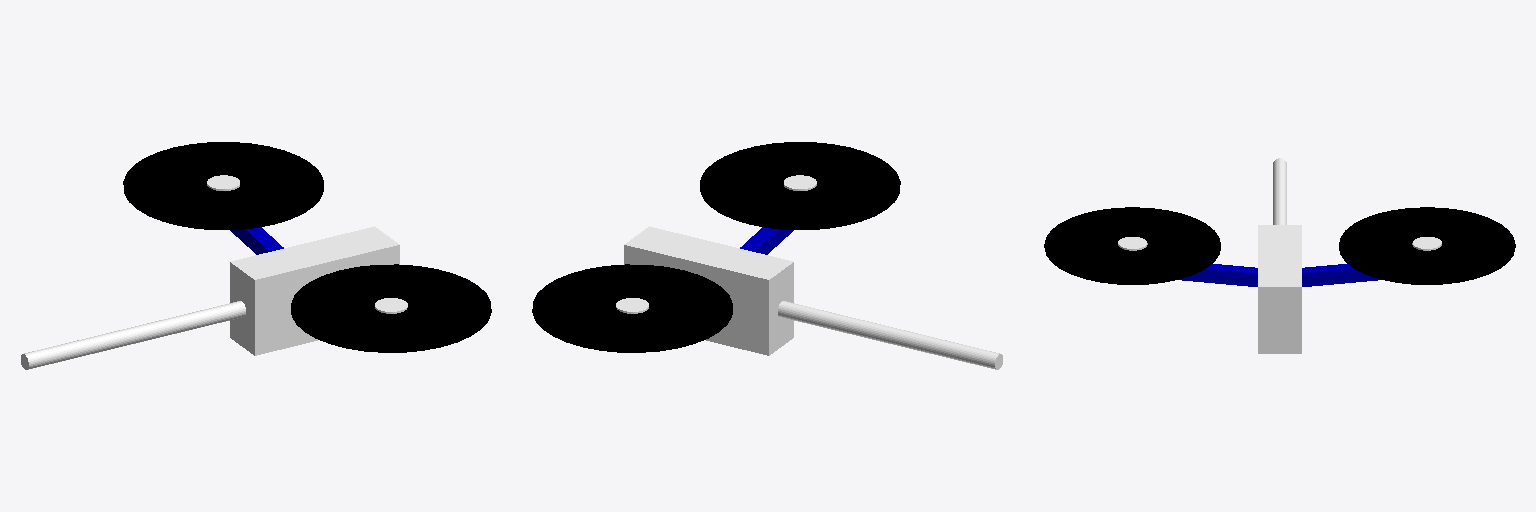
The robot description file, URDF, robot "bicopter":
<?xml version="1.0" ?>
<!-- =================================================================================== -->
<!-- |    This document was autogenerated by xacro from bicopter.xacro                 | -->
<!-- |    EDITING THIS FILE BY HAND IS NOT RECOMMENDED                                 | -->
<!-- =================================================================================== -->
<robot name="bicopter" xmlns:xacro="http://wiki.ros.org/xacro">
  <!-- END - Include -->
  <material name="blue">
    <color rgba="0 0 0.8 1"/>
  </material>
  <material name="white">
    <color rgba="1 1 1 1"/>
  </material>
  <material name="props">
    <color rgba="0 0 0 0.5"/>
  </material>
  <link name="base_link">
    <inertial>
      <mass value="0.5"/>
      <origin rpy="0 0 0" xyz="0 0 0.05"/>
      <inertia ixx="0.3" ixy="0" ixz="0" iyy="0.3" iyz="0" izz="0.3"/>
    </inertial>
    <collision>
      <origin rpy="0 0 0" xyz="0 0 0.05"/>
      <geometry>
        <box size="0.2 0.06 0.10"/>
      </geometry>
    </collision>
    <visual>
      <origin rpy="0 0 0" xyz="0 0 0.05"/>
      <geometry>
        <box size="0.2 0.06 0.10"/>
      </geometry>
      <material name="white"/>
    </visual>
  </link>
  <link name="tail">
    <inertial>
      <mass value="0.02085"/>
      <origin rpy="0 1.5708 0" xyz="0 0 0.0"/>
      <inertia ixx="1e-05" ixy="0" ixz="0" iyy="1e-05" iyz="0" izz="1e-05"/>
    </inertial>
    <collision>
      <origin rpy="0 1.5708 0" xyz="0 0 0.0"/>
      <geometry>
        <cylinder length="0.3" radius="0.01"/>
      </geometry>
    </collision>
    <visual>
      <origin rpy="0 1.5708 0" xyz="0 0 0.0"/>
      <geometry>
        <cylinder length="0.3" radius="0.01"/>
      </geometry>
      <material name="white"/>
    </visual>
  </link>
  <link name="prop_right">
    <inertial>
      <mass value="0.01"/>
      <origin rpy="0 0 0" xyz="0 0 0.0"/>
      <inertia ixx="1e-05" ixy="0" ixz="0" iyy="1e-05" iyz="0" izz="1e-05"/>
    </inertial>
    <collision>
      <origin rpy="0 0 0" xyz="0 0 0.0"/>
      <geometry>
        <cylinder length="0.005" radius="0.12"/>
      </geometry>
    </collision>
    <visual>
      <origin rpy="0 0 0" xyz="0 0 0.0"/>
      <geometry>
        <cylinder length="0.005" radius="0.12"/>
      </geometry>
      <material name="props"/>
    </visual>
  </link>
  <link name="prop_left">
    <inertial>
      <mass value="0.01"/>
      <origin rpy="0 0 0" xyz="0 0 0.0"/>
      <inertia ixx="1e-05" ixy="0" ixz="0" iyy="1e-05" iyz="0" izz="1e-05"/>
    </inertial>
    <collision>
      <origin rpy="0 0 0" xyz="0 0 0.0"/>
      <geometry>
        <cylinder length="0.005" radius="0.12"/>
      </geometry>
    </collision>
    <visual>
      <origin rpy="0 0 0" xyz="0 0 0.0"/>
      <geometry>
        <cylinder length="0.005" radius="0.12"/>
      </geometry>
      <material name="props"/>
    </visual>
  </link>
  <link name="arm_left">
    <inertial>
      <mass value="0.05"/>
      <origin rpy="0 -0.1 -1.5707" xyz="-0.010 -0.1 0.02"/>
      <inertia ixx="1e-05" ixy="0" ixz="0" iyy="1e-05" iyz="0" izz="1e-05"/>
    </inertial>
    <collision>
      <origin rpy="0 -0.1 -1.5707" xyz="-0.010 -0.1 0.02"/>
      <geometry>
        <box size="0.2 0.02 0.02"/>
      </geometry>
    </collision>
    <visual>
      <origin rpy="0 -0.1 -1.5707" xyz="-0.010 -0.1 0.02"/>
      <geometry>
        <box size="0.2 0.02 0.02"/>
      </geometry>
      <material name="blue"/>
    </visual>
  </link>
  <link name="arm_right">
    <inertial>
      <mass value="0.05"/>
      <origin rpy="0 -0.1 1.5707" xyz="-0.010 0.1 0.02"/>
      <inertia ixx="1e-05" ixy="0" ixz="0" iyy="1e-05" iyz="0" izz="1e-05"/>
    </inertial>
    <collision>
      <origin rpy="0 -0.1 1.5707" xyz="-0.010 0.1 0.02"/>
      <geometry>
        <box size="0.2 0.02 0.02"/>
      </geometry>
    </collision>
    <visual>
      <origin rpy="0 -0.1 1.5707" xyz="-0.010 0.1 0.02"/>
      <geometry>
        <box size="0.2 0.02 0.02"/>
      </geometry>
      <material name="blue"/>
    </visual>
  </link>
  <link name="motor_right">
    <inertial>
      <mass value="0.035"/>
      <origin rpy="0 0 0" xyz="0 0 0.0"/>
      <inertia ixx="1e-05" ixy="0" ixz="0" iyy="1e-05" iyz="0" izz="1e-05"/>
    </inertial>
    <collision>
      <origin rpy="0 0 0" xyz="0 0 0.0"/>
      <geometry>
        <cylinder length="0.05" radius="0.02"/>
      </geometry>
    </collision>
    <visual>
      <origin rpy="0 0 0" xyz="0 0 0.0"/>
      <geometry>
        <cylinder length="0.05" radius="0.02"/>
      </geometry>
      <material name="white"/>
    </visual>
  </link>
  <link name="motor_left">
    <inertial>
      <mass value="0.035"/>
      <origin rpy="0 0 0" xyz="0 0 0.0"/>
      <inertia ixx="1e-05" ixy="0" ixz="0" iyy="1e-05" iyz="0" izz="1e-05"/>
    </inertial>
    <collision>
      <origin rpy="0 0 0" xyz="0 0 0.0"/>
      <geometry>
        <cylinder length="0.05" radius="0.02"/>
      </geometry>
    </collision>
    <visual>
      <origin rpy="0 0 0" xyz="0 0 0.0"/>
      <geometry>
        <cylinder length="0.05" radius="0.02"/>
      </geometry>
      <material name="white"/>
    </visual>
  </link>
  <joint name="link_base_link_tail" type="fixed">
    <parent link="base_link"/>
    <child link="tail"/>
    <origin xyz="-0.25 0.0 0.05"/>
  </joint>
  <joint name="link_base_link_arm_right" type="fixed">
    <parent link="base_link"/>
    <child link="arm_right"/>
    <origin xyz="0 0.0 0.05"/>
  </joint>
  <joint name="link_base_link_arm_left" type="fixed">
    <parent link="base_link"/>
    <child link="arm_left"/>
    <origin xyz="0 0.0 0.05"/>
  </joint>
  <joint name="arm_right__motor_right" type="revolute">
    <axis xyz="0 1 0"/>
    <limit effort="1000" lower="-0.5" upper="0.5" velocity="0.5"/>
    <origin rpy="0 0 0" xyz="-0.010 0.2 0.04"/>
    <parent link="arm_right"/>
    <child link="motor_right"/>
    <dynamics damping="10.0" friction="10.0"/>
  </joint>
  <joint name="arm_left__motor_left" type="revolute">
    <axis xyz="0 1 0"/>
    <limit effort="1000" lower="-0.5" upper="0.5" velocity="0.5"/>
    <origin rpy="0 0 0" xyz="-0.010 -0.2 0.04"/>
    <parent link="arm_left"/>
    <child link="motor_left"/>
    <dynamics damping="10.0" friction="10.0"/>
  </joint>
  <joint name="motor_left__prop_left" type="continuous">
    <axis xyz="0 0 -1"/>
    <origin rpy="0 0 0" xyz="0.00 -0.0 0.02"/>
    <parent link="motor_left"/>
    <child link="prop_left"/>
  </joint>
  <joint name="motor_right__prop_right" type="continuous">
    <axis xyz="0 0 1"/>
    <origin rpy="0 0 0" xyz="0.00  0.0 0.02"/>
    <parent link="motor_right"/>
    <child link="prop_right"/>
  </joint>
  <gazebo reference="base_link">
    <material>Gazebo/Gray</material>
  </gazebo>
  <gazebo reference="prop_right">
    <material>Gazebo/Blue</material>
  </gazebo>
  <gazebo reference="prop_left">
    <material>Gazebo/Blue</material>
  </gazebo>
  <!-- This plugin will publish the joint_states for the selected joints 
          (which robot_state_publisher can then use to broadcast the approprate tf). -->
  <gazebo>
    <plugin filename="libgazebo_ros_joint_state_publisher.so" name="gazebo_ros_joint_state_publisher">
      <update_rate>20</update_rate>
      <joint_name>arm_left__motor_left</joint_name>
      <joint_name>arm_right__motor_right</joint_name>
      <joint_name>motor_left__prop_left</joint_name>
      <joint_name>motor_right__prop_right</joint_name>
    </plugin>
  </gazebo>
  <!-- This plugin will read a JointTrajectory message from the /set_joint_trajectory topic 
          and move the machine accordingly. It's a bit clunky but it works. -->
  <!-- You'll probably want to add damping to the joints to stop them it flopping around. 
          e.g. <dynamics damping="10.0" friction="10.0"/> -->
  <!-- Here's an example message to publish to test it:

          ros2 topic pub -1 /set_joint_trajectory trajectory_msgs/msg/JointTrajectory  '{header: {frame_id: world}, joint_names: [arm_left__motor_left], points: [  {positions: {0.3}} ]}'
          ros2 topic pub -1 /set_joint_trajectory trajectory_msgs/msg/JointTrajectory  '{header: {frame_id: world}, joint_names: [arm_right__motor_right], points: [  {positions: {0.3}} ]}'
          -->
  <gazebo>
    <plugin filename="libgazebo_ros_joint_pose_trajectory.so" name="gazebo_ros_joint_pose_trajectory">
      <update_rate>20</update_rate>
    </plugin>
  </gazebo>
  <!-- Ros Gazebo force Plugin -->
  <!-- http://wiki.ros.org/pr2_gazebo_plugins/Tutorials/Attaching%20a%20GazeboRosForce%20pugin%20to%20Objects%20in%20Simulation
  https://docs.ros.org/en/ros2_packages/rolling/api/gazebo_plugins/generated/classgazebo__plugins_1_1GazeboRosForce.html

  ros2 topic pub -1 /force/prop_left  geometry_msgs/Wrench  '{force:  {x: 0.0, y: 0.0, z: 1000.00}, torque: {x: 0.0,y: 0.0,z: 0.0}}'
  ros2 topic pub -1 /cmd/prop_left  std_msgs/Float32 '{data: 3.0}'
  ros2 topic pub -1 /cmd/prop_right  std_msgs/Float32 '{data: 3.0}'
    -->
  <gazebo>
    <plugin filename="libgazebo_ros_force.so" name="gazebo_ros_force">
      <ros>
        <!-- Add a namespace -->
        <namespace>/force</namespace>
        <!-- Remap the default topic -->
        <remapping>gazebo_ros_force:=prop_right</remapping>
      </ros>
      <force_frame>link</force_frame>
      <link_name>motor_right</link_name>
      <!-- <bodyName>${motor_right}</bodyName> -->
    </plugin>
  </gazebo>
  <gazebo>
    <plugin filename="libgazebo_ros_force.so" name="gazebo_ros_force">
      <ros>
        <!-- Add a namespace -->
        <namespace>/force</namespace>
        <!-- Remap the default topic -->
        <remapping>gazebo_ros_force:=prop_left</remapping>
      </ros>
      <force_frame>link</force_frame>
      <link_name>motor_left</link_name>
      <!-- <bodyName>${motor_left}</bodyName> -->
    </plugin>
  </gazebo>
  <gazebo reference="base_link">
    <gravity>true</gravity>
    <sensor name="imu_sensor" type="imu">
      <always_on>true</always_on>
      <update_rate>100</update_rate>
      <visualize>true</visualize>
      <topic>imu</topic>
      <plugin filename="libgazebo_ros_imu_sensor.so" name="imu_plugin">
        <topicName>imu</topicName>
        <bodyName>base_link</bodyName>
        <updateRateHZ>10.0</updateRateHZ>
        <gaussianNoise>0.0</gaussianNoise>
        <xyzOffset>0 0 0</xyzOffset>
        <rpyOffset>0 0 0</rpyOffset>
        <frameName>base_link</frameName>
        <initialOrientationAsReference>false</initialOrientationAsReference>
      </plugin>
      <pose>0 0 0 0 0 0</pose>
    </sensor>
  </gazebo>
</robot>

--- What the picture shows (computed from the rendered views, not written in the file) ---
Views: 3 orthographic renders of the robot side by side, from view 1: azimuth 30°, elevation 25°; view 2: azimuth 150°, elevation 25°; view 3: azimuth 270°, elevation 25°.
Robot: bicopter — 8 links, 7 joints (2 revolute, 2 continuous, 3 fixed); root link base_link; default pose: every joint at zero.
Visible links, largest first — view 1: prop_left, prop_right, base_link, tail, arm_right; view 2: prop_right, prop_left, base_link, tail, arm_left; view 3: prop_right, prop_left, base_link, arm_left, arm_right, tail.
Link boxes in pixels (x1,y1,x2,y2): prop_left: (291, 264, 491, 352); prop_right: (123, 142, 323, 229); base_link: (230, 226, 399, 355); tail: (21, 301, 245, 369); arm_right: (230, 227, 283, 254); prop_right: (532, 264, 732, 352); prop_left: (700, 142, 900, 229); base_link: (624, 226, 793, 355); tail: (778, 301, 1002, 369); arm_left: (740, 227, 793, 254); prop_right: (1339, 207, 1515, 284); prop_left: (1044, 207, 1220, 284); base_link: (1258, 225, 1301, 353); arm_left: (1179, 264, 1257, 286); arm_right: (1302, 264, 1380, 286); tail: (1273, 158, 1286, 224).
Bounding box of the posed robot: 0.51 × 0.64 × 0.115 m (x, y, z).
Geometry: primitives only (box / cylinder / sphere), no mesh files.